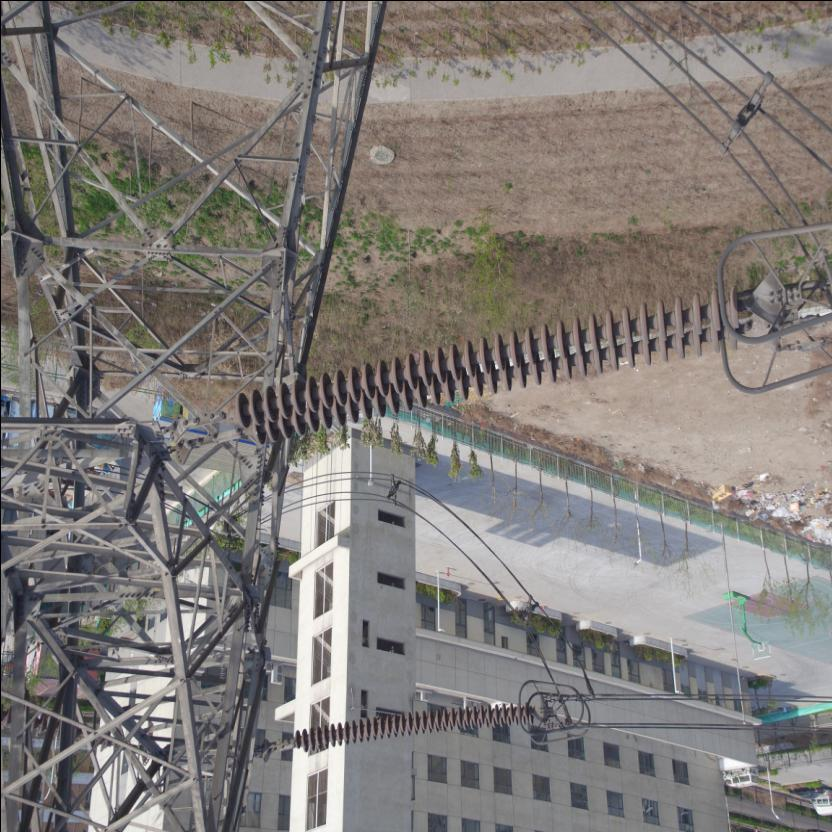insulator: (203, 284, 760, 452), (276, 700, 534, 758)
